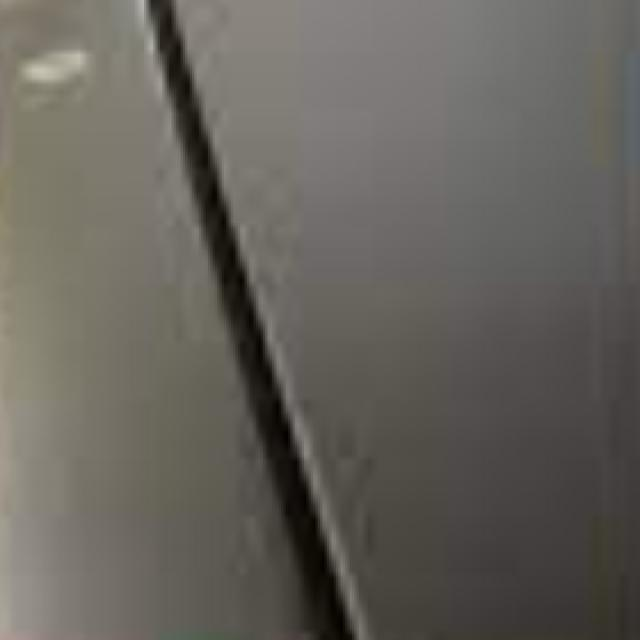dents: (4, 12, 131, 148)
